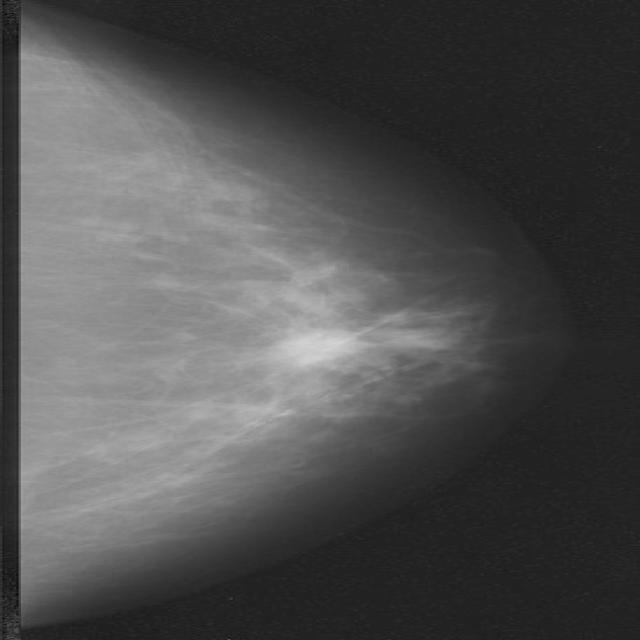tumour: (266, 327, 372, 365)
